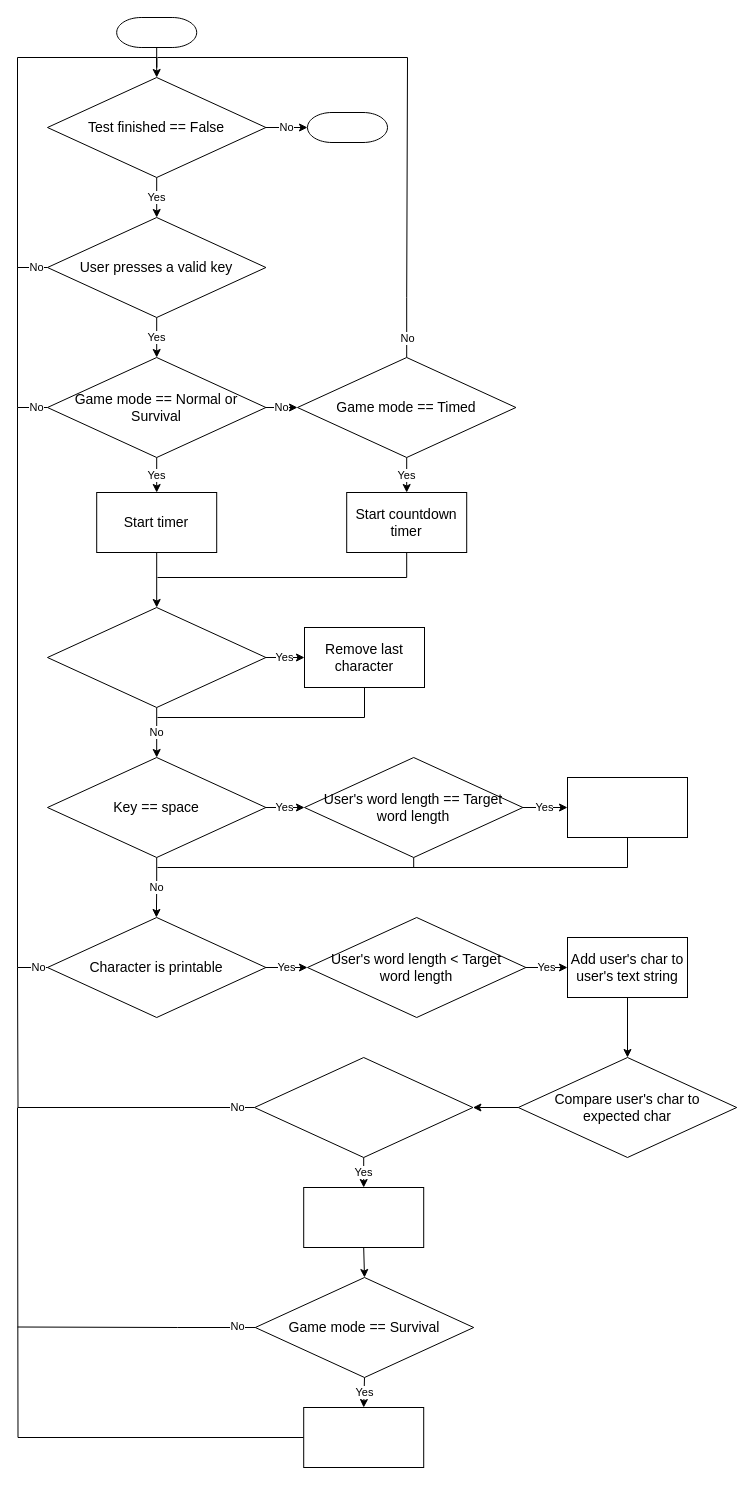
Some shapes in this 755 by 1485 pixel diagram are drawn without their labels. The shapes that lost their labels are listed below. From the top down, each one's box as (x1, y1, x2, y2) in pixels, then its label:
(116, 16, 197, 48): Start
(306, 112, 388, 142): End
(46, 606, 266, 708): Key == backspace
(566, 776, 688, 838): Add space
(254, 1056, 473, 1158): Incorrect
(303, 1186, 424, 1248): Increment error count
(303, 1406, 424, 1468): User loses a life
